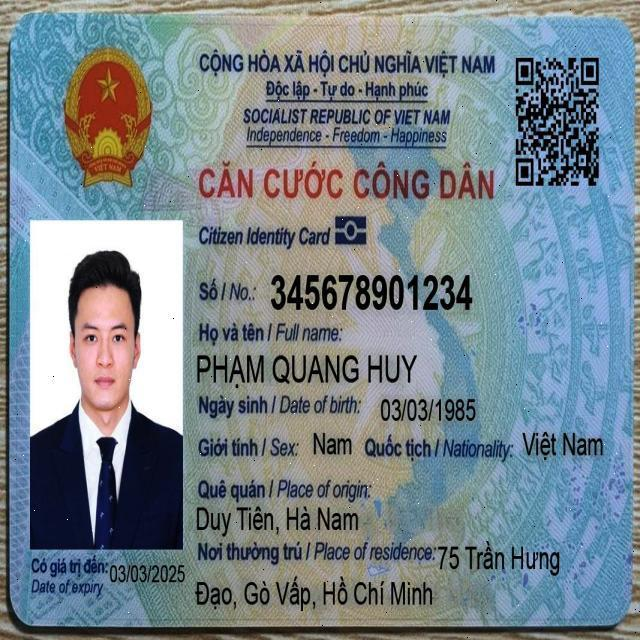current_place: (191, 571, 437, 614), (436, 538, 564, 583)
dob: (377, 391, 480, 429)
expire_date: (107, 558, 188, 589)
gender: (311, 427, 354, 461)
id: (269, 269, 474, 318)
name: (194, 349, 419, 392)
nationality: (521, 428, 606, 464)
origin_place: (194, 497, 363, 538)
